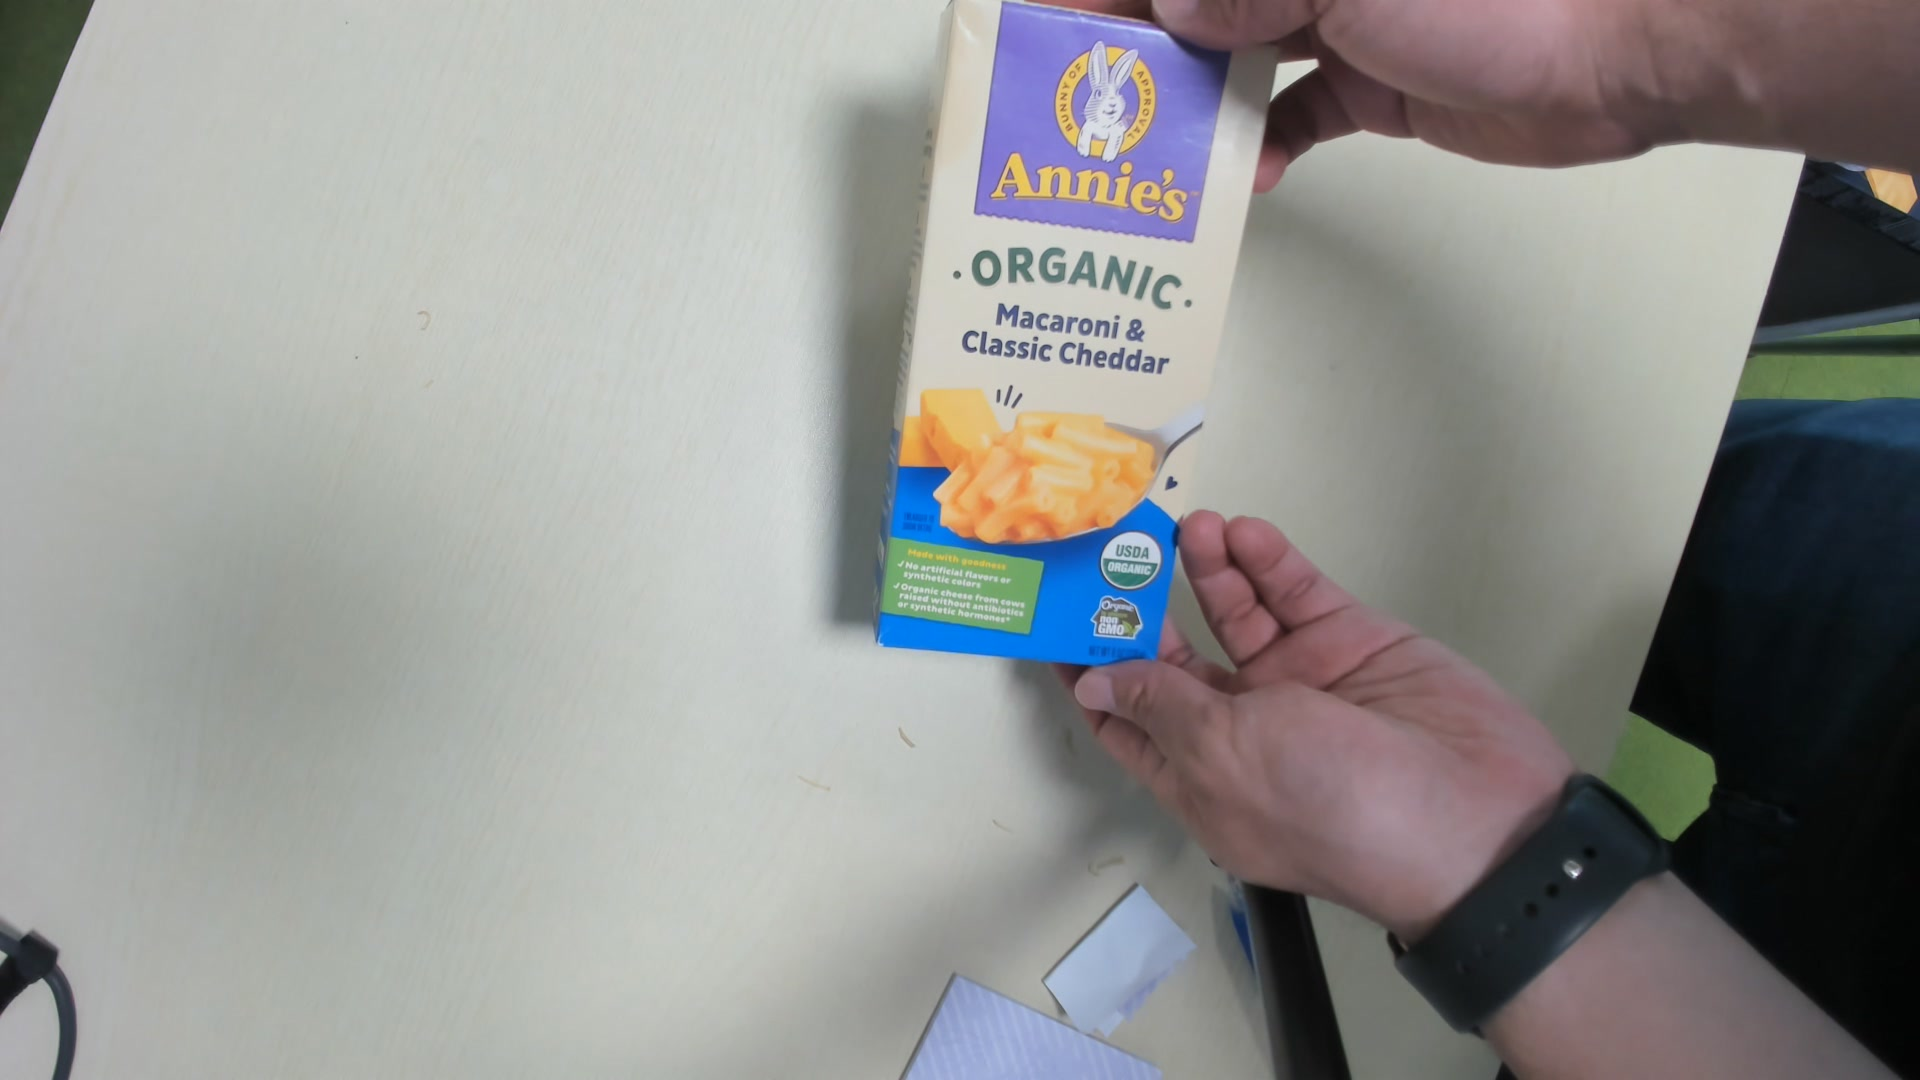InstantMeals_100_199g_NonHalal_NonHealthy: (869, 3, 1261, 661)
